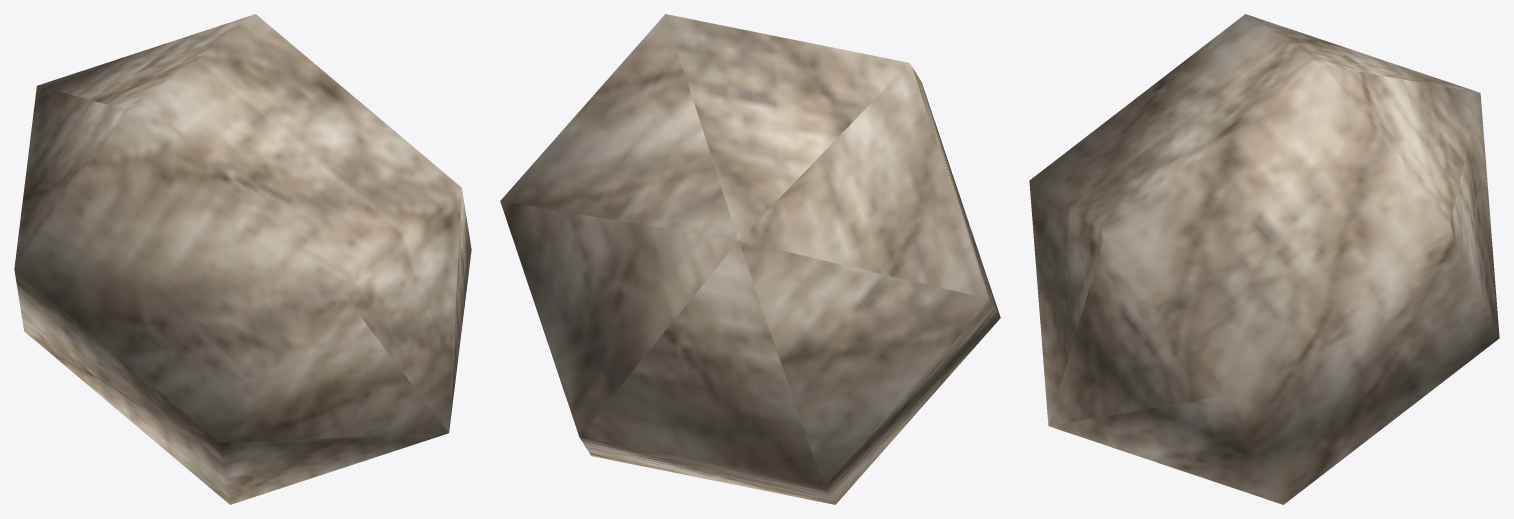
File: Big Knot.fbx
3 renders of one model, left to right at view 1: azimuth 30°, elevation 25°; view 2: azimuth 150°, elevation 25°; view 3: azimuth 270°, elevation 25°, orthographic. The views are drawn at different scales.
Parts seen in each view (by area): view 1: knot; view 2: knot; view 3: knot.
Part boxes in pixels (box(x1,y1,x2,y2)): knot: box(14, 14, 471, 504); knot: box(500, 14, 1000, 504); knot: box(1029, 14, 1499, 504).
Size of the model in its own units: 16.06 by 15.34 by 15.43.
Materials: 1 (1 with a texture image).
